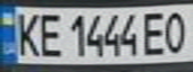1: (63, 10, 87, 57)
4: (118, 9, 142, 57), (84, 10, 106, 57), (103, 10, 124, 57)
E: (33, 9, 66, 58), (139, 8, 172, 56)
K: (9, 8, 42, 57)
O: (160, 7, 193, 55)
